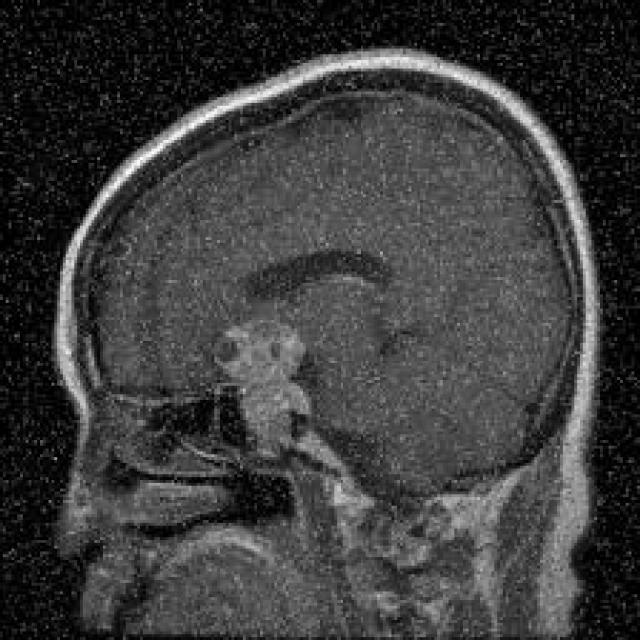pituitary_tumor: (198, 294, 344, 480)
